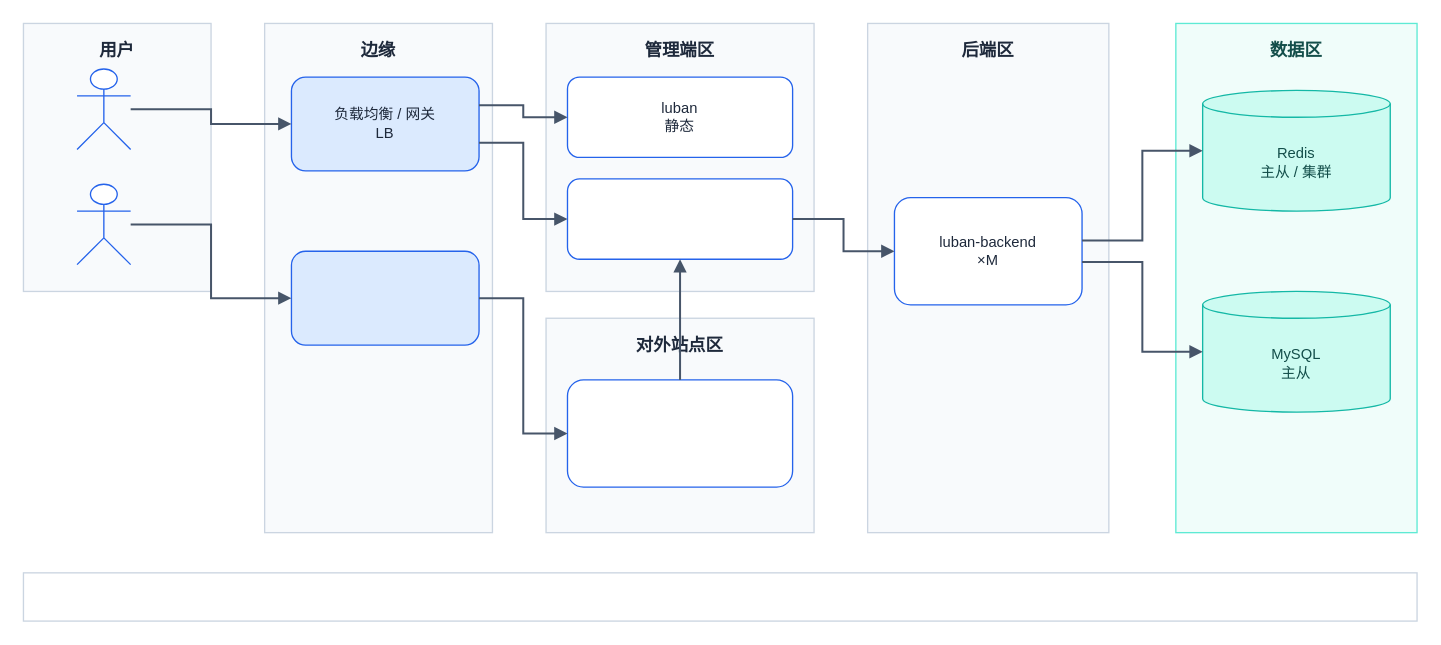
This 1441x645 diagram has some shape labels left out. The shapes that lost their labels are listed below. From the top down, each one's centre as x and y in pixels, then its label:
At [103,108]: "运营 / 开发".
At [103,224]: "终端访客".
At [679,218]: "luban-bff ×N".
At [384,297]: "CDN".
At [679,433]: "luban-website SSR ×N".
At [719,596]: "图例：×N / ×M 表示多实例水平扩展；Redis 与 MySQL 均为主从部署（青绿色 = 数据区，独立扩缩容）。".
